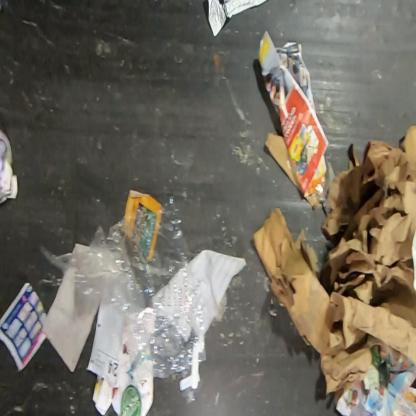cardboard: (251, 142, 415, 406), (362, 140, 411, 187), (264, 132, 299, 191), (405, 125, 415, 183)
soft_plastic: (39, 192, 207, 404)
